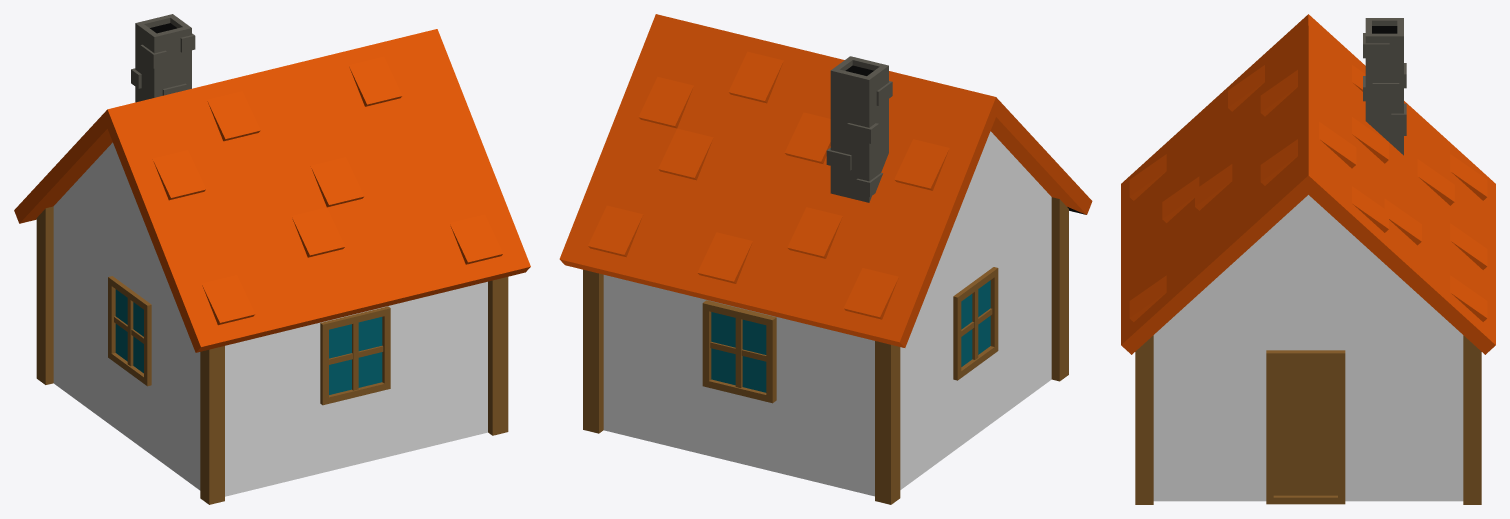
File: FarmHouse.fbx
The picture shows the model from 3 angles, left to right: view 1: azimuth 30°, elevation 25°; view 2: azimuth 150°, elevation 25°; view 3: azimuth 270°, elevation 25°; orthographic projection. The views are drawn at different scales.
Visible parts, largest first — view 1: FarmHouse; view 2: FarmHouse; view 3: FarmHouse.
Part boxes in pixels (<box>): FarmHouse: <box>14,14,530,504</box>; FarmHouse: <box>559,14,1092,504</box>; FarmHouse: <box>1121,14,1495,504</box>.
Bounding box in the file's own units: 0.6333 × 0.6771 × 0.6216.
